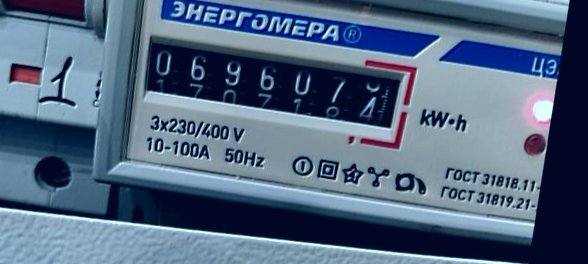0: (150, 47, 176, 80), (291, 68, 314, 99)
4: (355, 93, 378, 125)
6: (255, 62, 280, 96), (186, 52, 209, 84)
7: (325, 72, 348, 106)
9: (221, 58, 245, 90)
screen: (127, 18, 421, 153)
